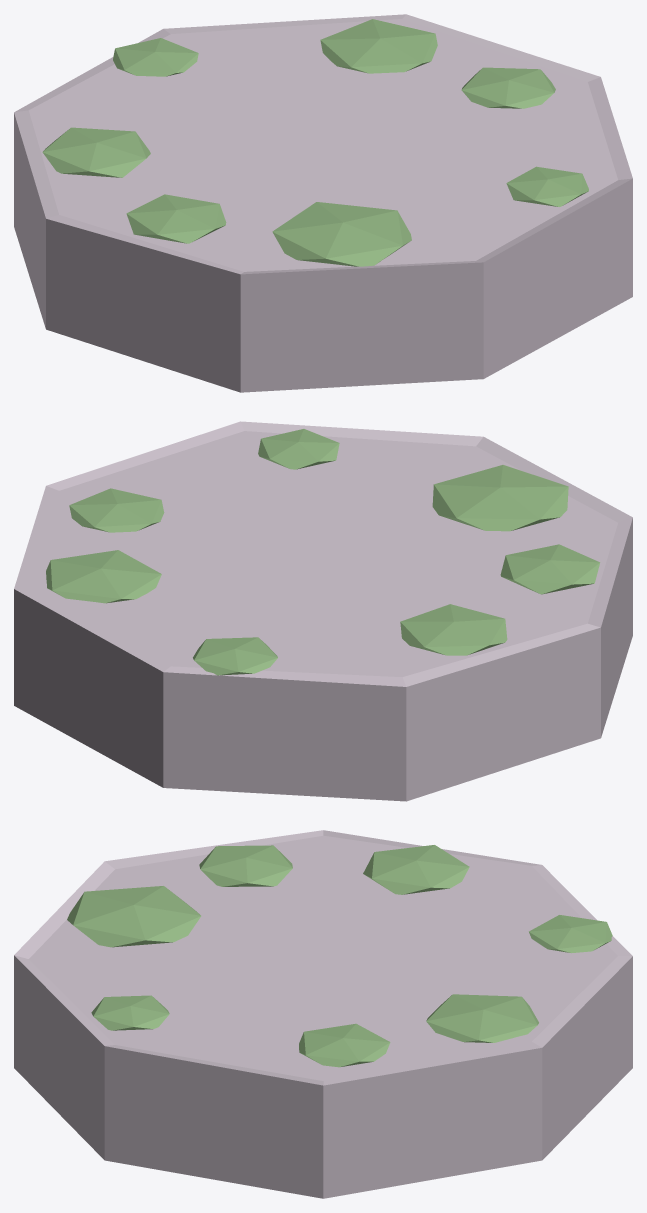
Rendered from Platform_SteppingStone.fbx.
3 views of the same model, one above another, from view 1: azimuth 30°, elevation 25°; view 2: azimuth 150°, elevation 25°; view 3: azimuth 270°, elevation 25° (orthographic). The views are drawn at different scales.
Parts seen in each view (by area): view 1: Platform_SteppingStone_Body, Platform_SteppingStone; view 2: Platform_SteppingStone_Body, Platform_SteppingStone; view 3: Platform_SteppingStone_Body, Platform_SteppingStone.
Part boxes in pixels (x1=…): Platform_SteppingStone_Body: x1=14, y1=14, x2=632, y2=392; Platform_SteppingStone: x1=42, y1=19, x2=588, y2=266; Platform_SteppingStone_Body: x1=14, y1=421, x2=632, y2=801; Platform_SteppingStone: x1=46, y1=429, x2=600, y2=675; Platform_SteppingStone_Body: x1=14, y1=830, x2=632, y2=1198; Platform_SteppingStone: x1=67, y1=845, x2=612, y2=1067.
Size of what is drawn, in the model's own units: 0.84 by 0.1887 by 0.84.
